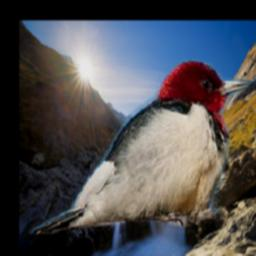Woodpecker: (30, 59, 256, 234)
